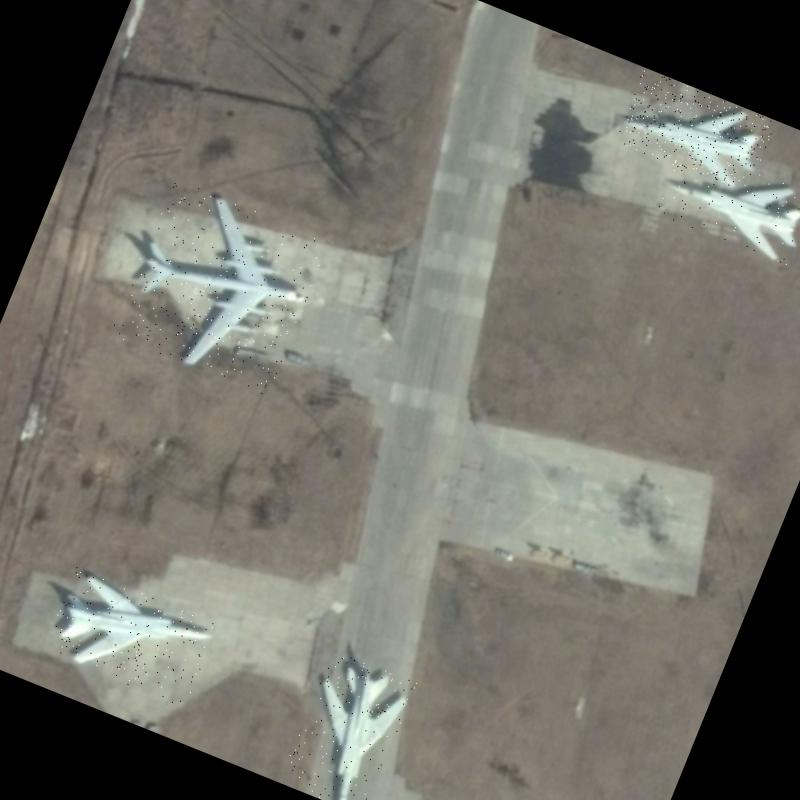A12: (42, 567, 219, 708), (278, 648, 416, 800), (614, 68, 776, 195), (655, 142, 800, 266)
A17: (108, 174, 330, 397)
